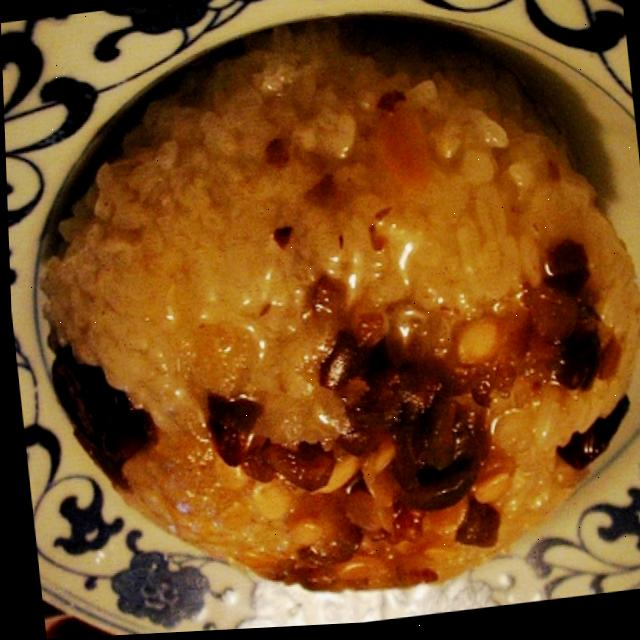米饭主食: (33, 31, 640, 611)
